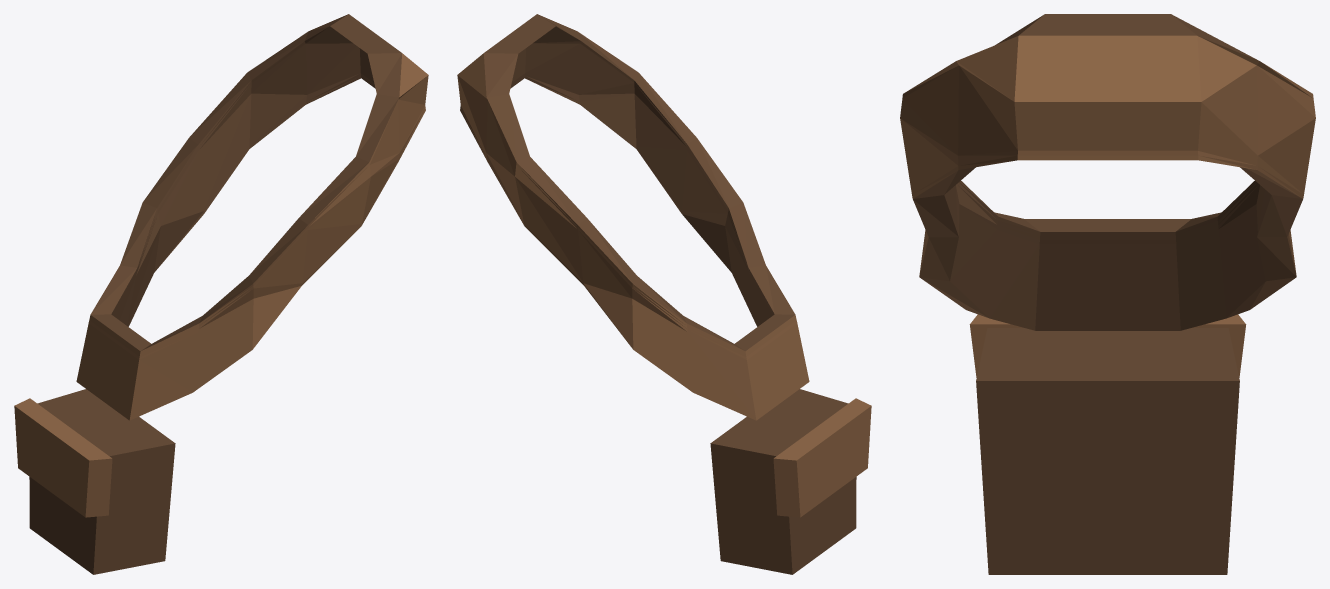
Rendered from person_female_bandolier.obj.
3 renders of one model, left to right at view 1: azimuth 30°, elevation 25°; view 2: azimuth 150°, elevation 25°; view 3: azimuth 270°, elevation 25°, orthographic. The views are drawn at different scales.
Bounding box in the file's own units: 0.5376 × 0.65 × 0.331.
